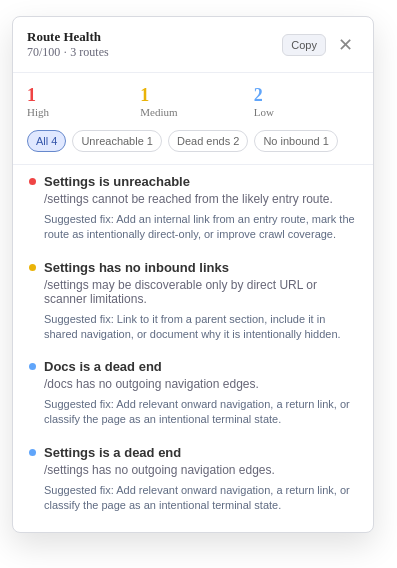
Test case: RouteHealthPanel › copies the route health report
Click the button "Copy": (304, 44) [282, 34, 326, 56]
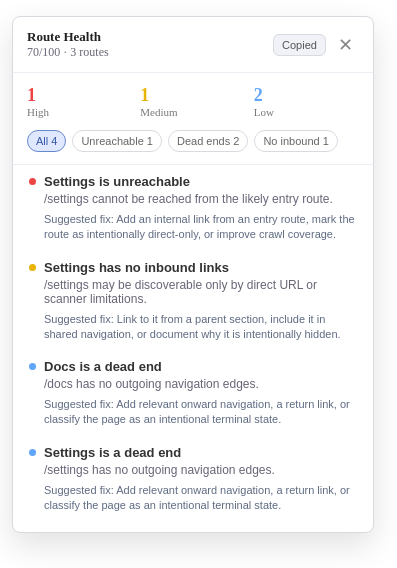
Check: the button "Copied" is shown, box [273, 34, 326, 56]
